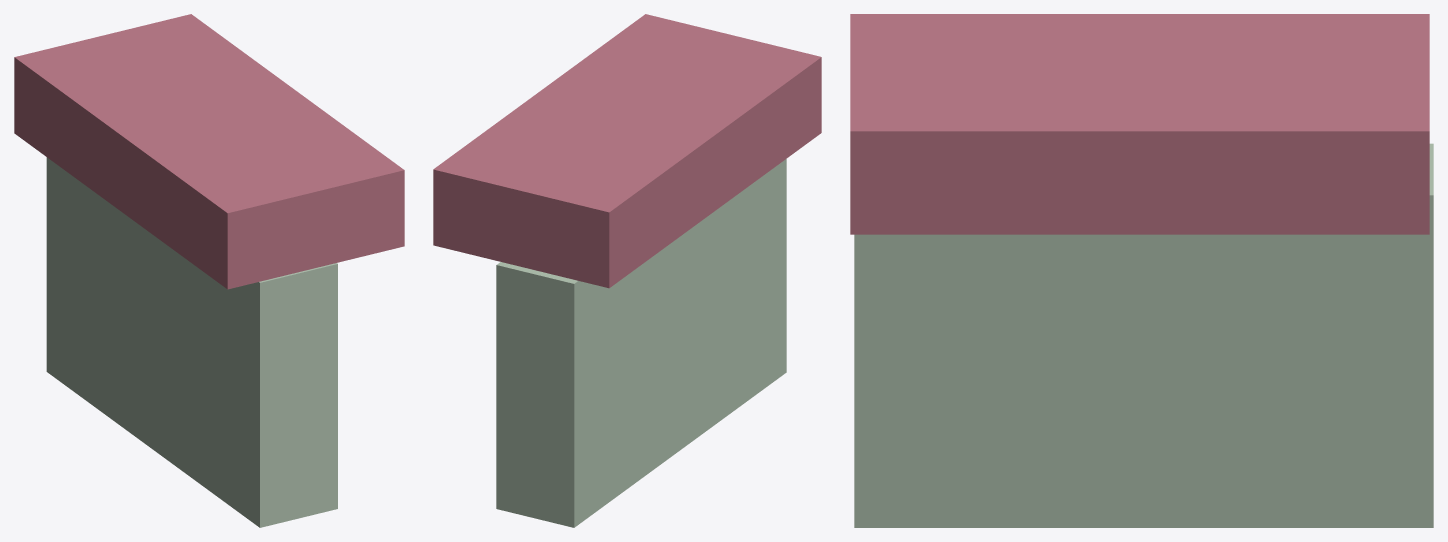
The model's file is 199542_pred.glb.
3 renders of one model, left to right at view 1: azimuth 30°, elevation 25°; view 2: azimuth 150°, elevation 25°; view 3: azimuth 270°, elevation 25°, orthographic. The views are drawn at different scales.
Parts seen in each view (by area): view 1: world; view 2: world; view 3: world.
Boxes of the visible parts, left/top/right/bottom form: world: left=14, top=14, right=404, bottom=527; world: left=433, top=14, right=821, bottom=527; world: left=850, top=14, right=1433, bottom=527.
Size of the model in its own units: 3.4 by 5.95 by 7.15.
